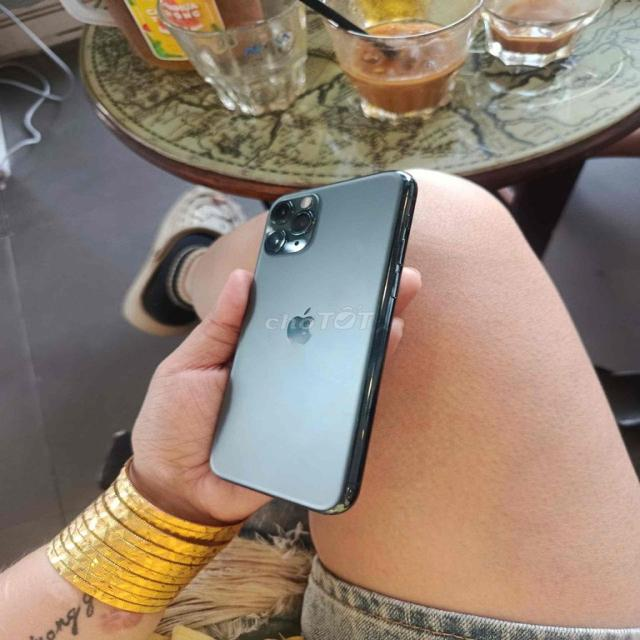gen_11: (210, 173, 429, 530)
